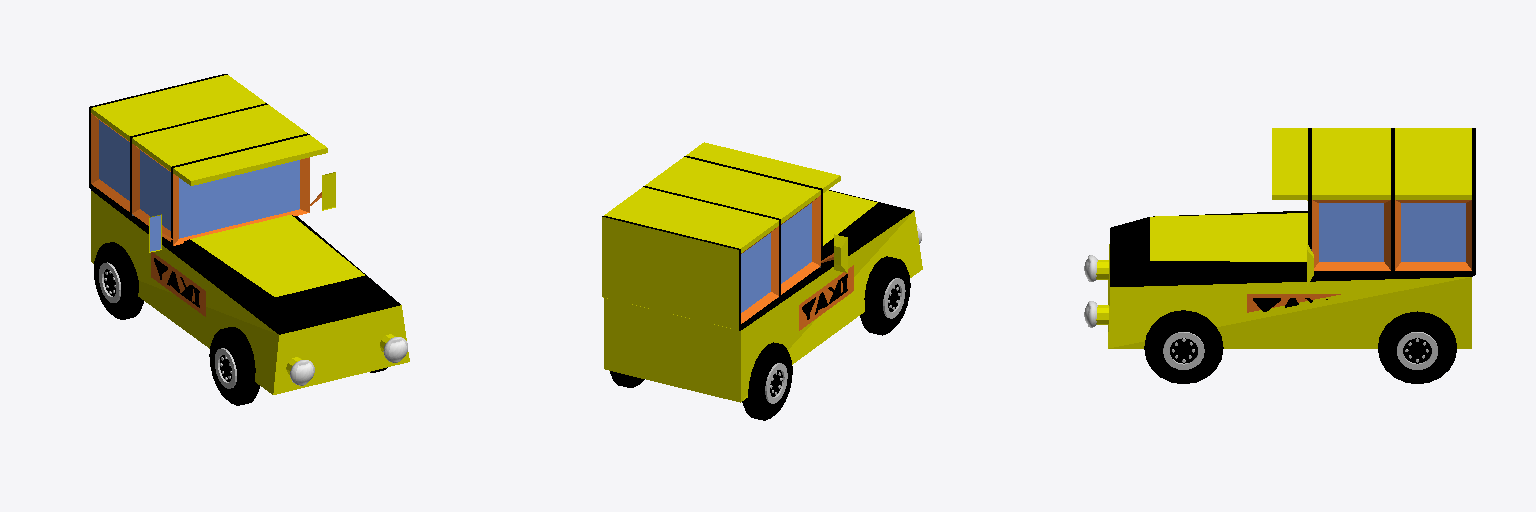
Rendered from taxi.obj.
3 views of the same model, side by side, from view 1: azimuth 30°, elevation 25°; view 2: azimuth 150°, elevation 25°; view 3: azimuth 270°, elevation 25° (orthographic).
Parts seen in each view (by area): view 1: polySurface14; view 2: polySurface14; view 3: polySurface14.
Boxes of the visible parts, x1,y1,x2,y2 form: polySurface14: [89, 74, 409, 405]; polySurface14: [602, 142, 922, 420]; polySurface14: [1084, 128, 1475, 383].
Size of the model in its own units: 9.04 by 8.71 by 16.37.